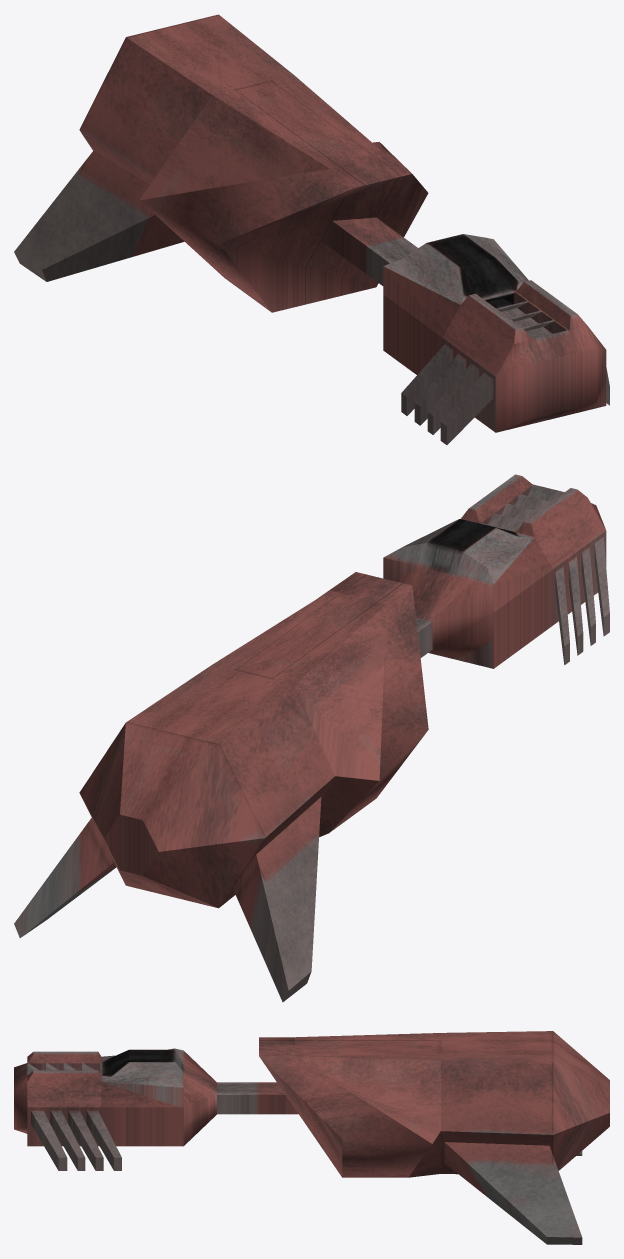
File: shiperino team 2.FBX
3 renders of one model, top to bottom at view 1: azimuth 30°, elevation 25°; view 2: azimuth 150°, elevation 25°; view 3: azimuth 270°, elevation 25°, orthographic. The views are drawn at different scales.
Visible parts, largest first — view 1: pls_no_shiperino:Box001; view 2: pls_no_shiperino:Box001; view 3: pls_no_shiperino:Box001.
Boxes of the visible parts, bbox=[...] form: pls_no_shiperino:Box001: bbox=[14, 14, 609, 444]; pls_no_shiperino:Box001: bbox=[14, 474, 609, 1002]; pls_no_shiperino:Box001: bbox=[14, 1031, 609, 1244].
Bounding box in the file's own units: 55 × 42.34 × 149.
1 material, 1 textured.
